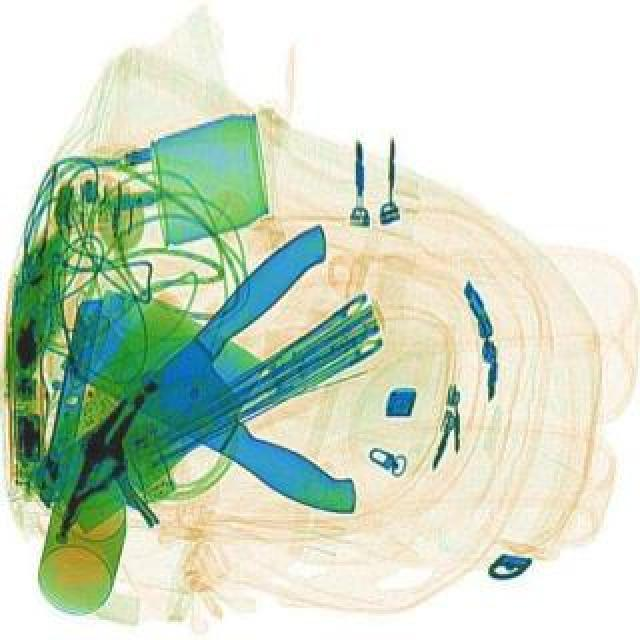knife: (14, 218, 388, 534), (50, 276, 402, 524)
